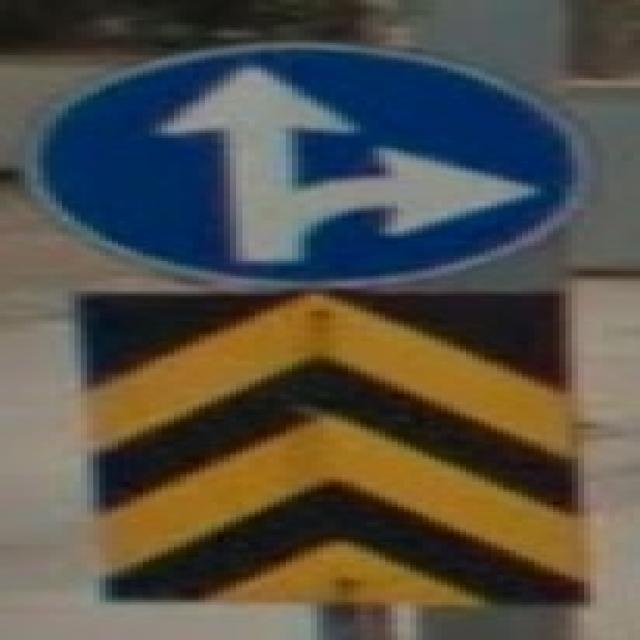Straight or Right: (32, 50, 573, 283)
